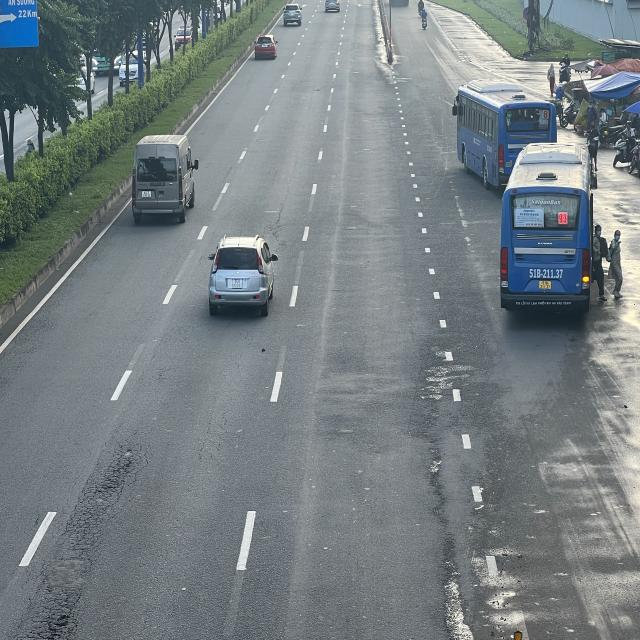car: (206, 237, 275, 316), (256, 32, 280, 58)
coach: (503, 140, 594, 312), (453, 87, 561, 189)
van: (130, 136, 198, 226)
